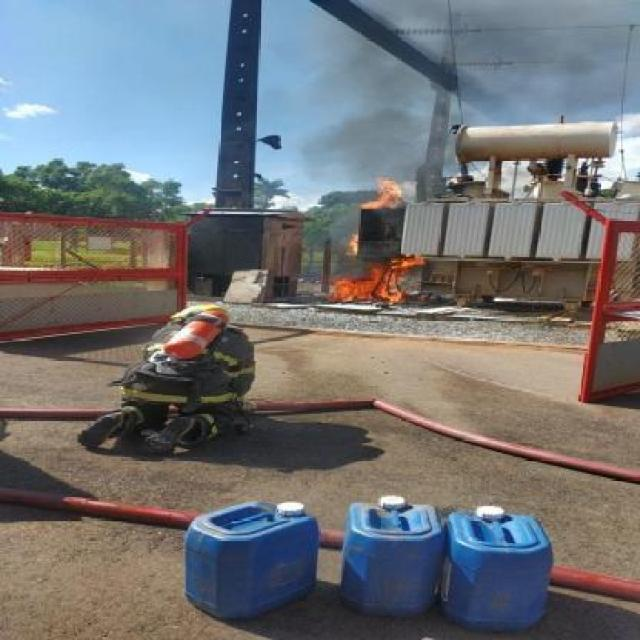Fire: (330, 173, 441, 347)
Smoke: (304, 0, 640, 201)
